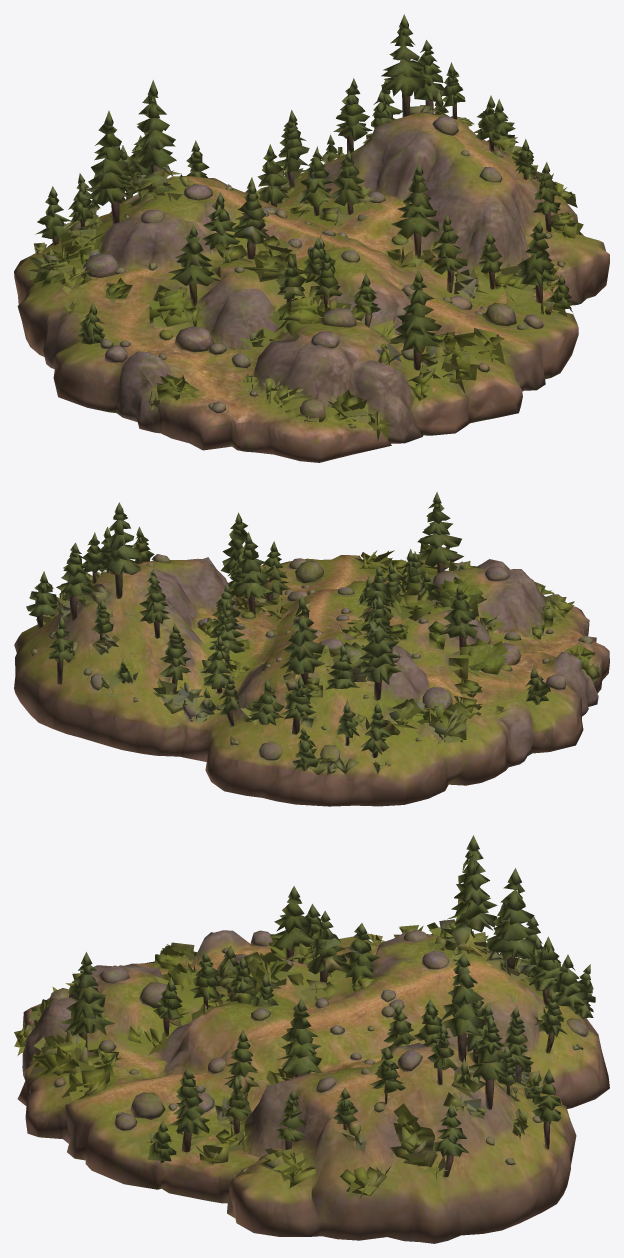
Rendered from pine.glb.
3 views of the same model, one above another, from view 1: azimuth 30°, elevation 25°; view 2: azimuth 150°, elevation 25°; view 3: azimuth 270°, elevation 25° (orthographic). The views are drawn at different scales.
Bounding box in the file's own units: 0.957 × 0.3667 × 0.8594.
1 material, 1 textured.
